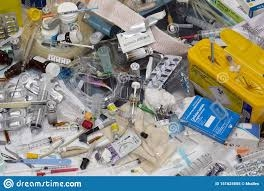glass: (27, 55, 62, 76), (3, 59, 30, 81), (54, 27, 83, 47)
paper: (172, 92, 237, 146), (187, 117, 261, 151)
plastic: (21, 71, 58, 137), (142, 50, 183, 91), (177, 22, 247, 45), (15, 131, 60, 153), (105, 154, 147, 175), (32, 161, 81, 176), (76, 139, 99, 170), (94, 45, 114, 76)
